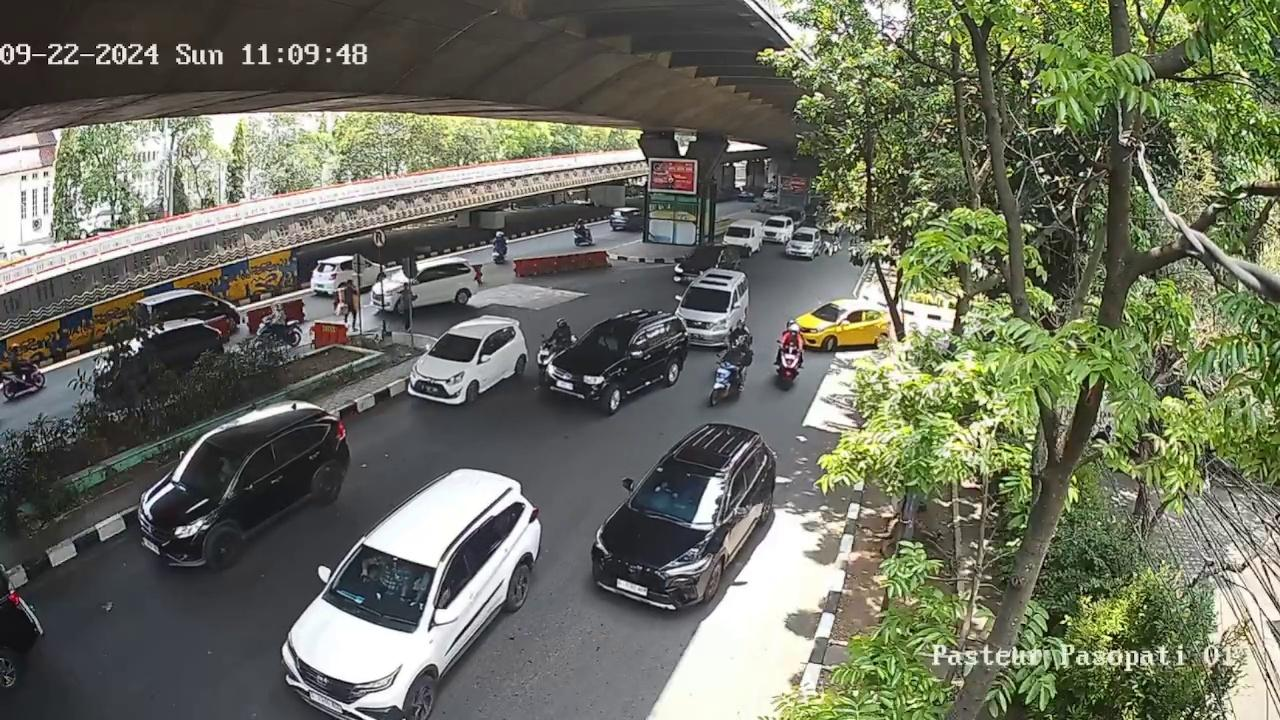pakai: (363, 553, 413, 597), (597, 333, 621, 352)
windshield: (330, 545, 439, 626), (636, 461, 732, 527), (175, 444, 241, 498), (582, 325, 635, 355), (431, 334, 482, 362), (682, 288, 726, 314)
